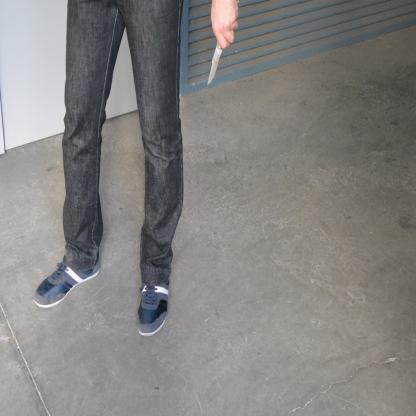knife: (203, 0, 241, 95)
